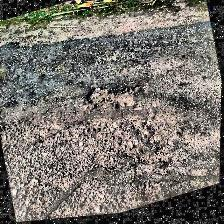pothole: (84, 78, 138, 122)
